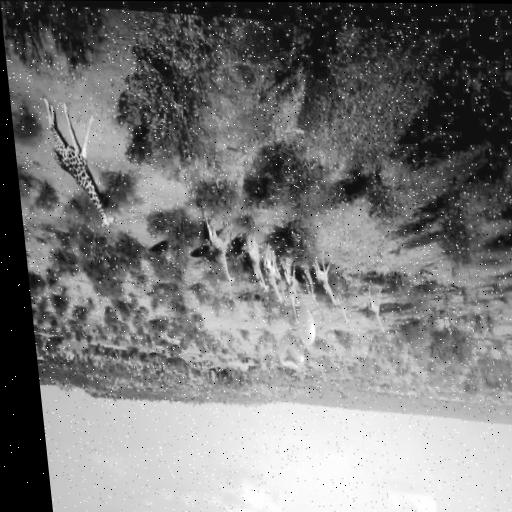balloon: (293, 294, 318, 343), (276, 322, 305, 364)
